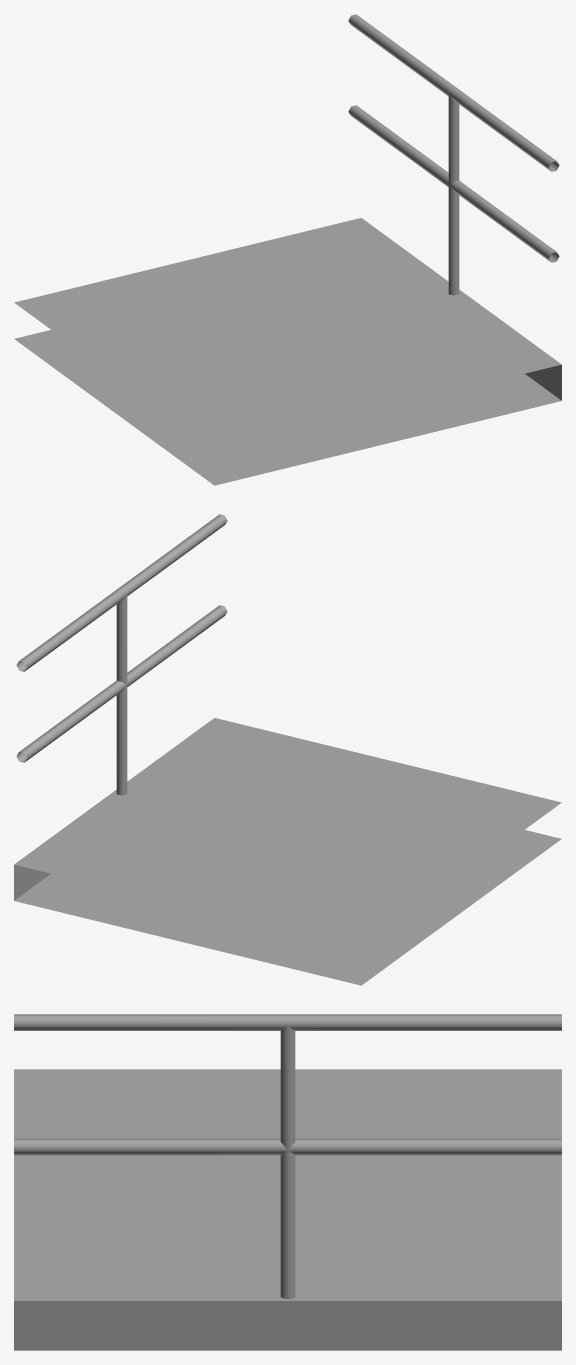
File: SM_Railing_200.FBX
3 views of the same model, one above another, from view 1: azimuth 30°, elevation 25°; view 2: azimuth 150°, elevation 25°; view 3: azimuth 270°, elevation 25° (orthographic). The views are drawn at different scales.
Parts seen in each view (by area): view 1: SM_Railing_200; view 2: SM_Railing_200; view 3: SM_Railing_200.
Boxes of the visible parts, box(x1,y1,x2,y2) form: SM_Railing_200: box(14, 14, 561, 485); SM_Railing_200: box(14, 514, 561, 985); SM_Railing_200: box(14, 1014, 561, 1350).
Bounding box in the file's own units: 200 × 200 × 133.
